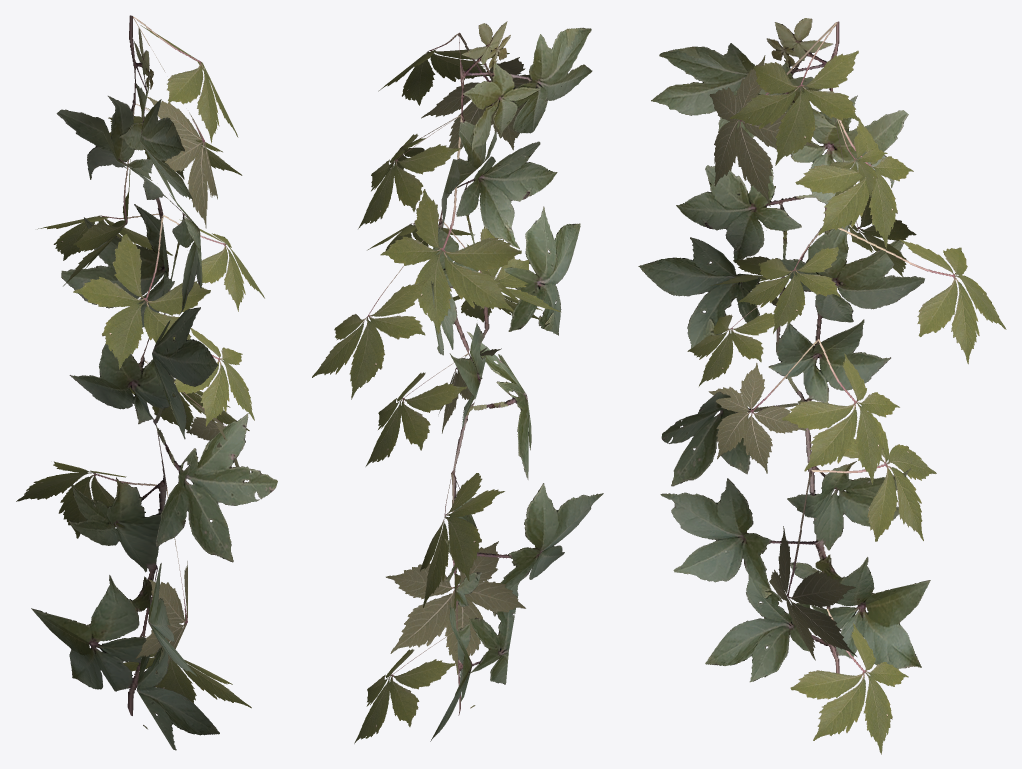
The model's file is SM_Plant_Ivy_01.fbx.
The picture shows the model from 3 angles, left to right: view 1: azimuth 30°, elevation 25°; view 2: azimuth 150°, elevation 25°; view 3: azimuth 270°, elevation 25°; orthographic projection. The views are drawn at different scales.
Parts seen in each view (by area): view 1: SM_Plant_Ivy_01; view 2: SM_Plant_Ivy_01; view 3: SM_Plant_Ivy_01.
Part boxes in pixels (left/top/right/bottom): SM_Plant_Ivy_01: left=16, top=15, right=277, bottom=750; SM_Plant_Ivy_01: left=312, top=21, right=603, bottom=743; SM_Plant_Ivy_01: left=638, top=18, right=1006, bottom=754.
Size of the model in its own units: 27.4 by 51 by 105.
Materials: 1 (1 with a texture image).
